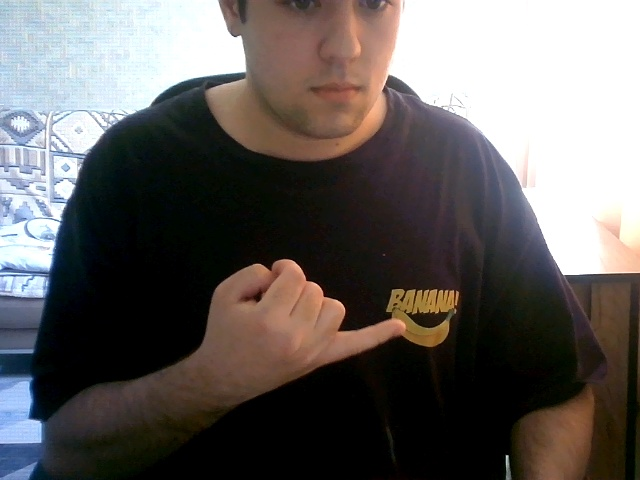bad: (187, 245, 419, 394)
